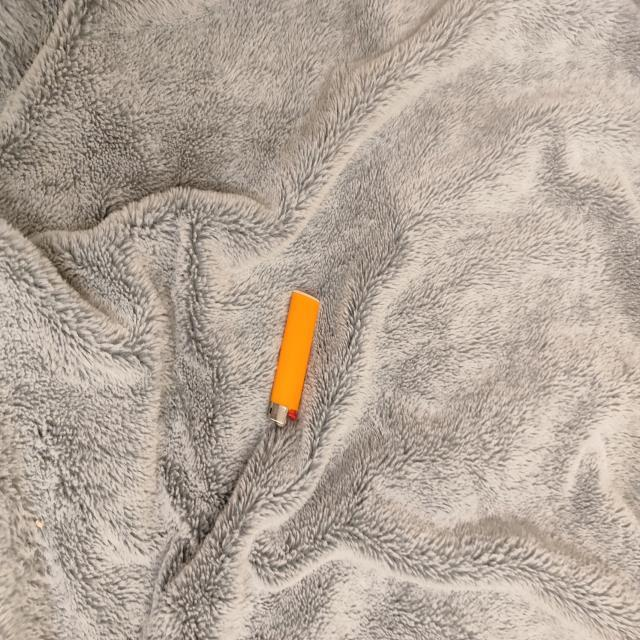lighter: (268, 291, 319, 426)
